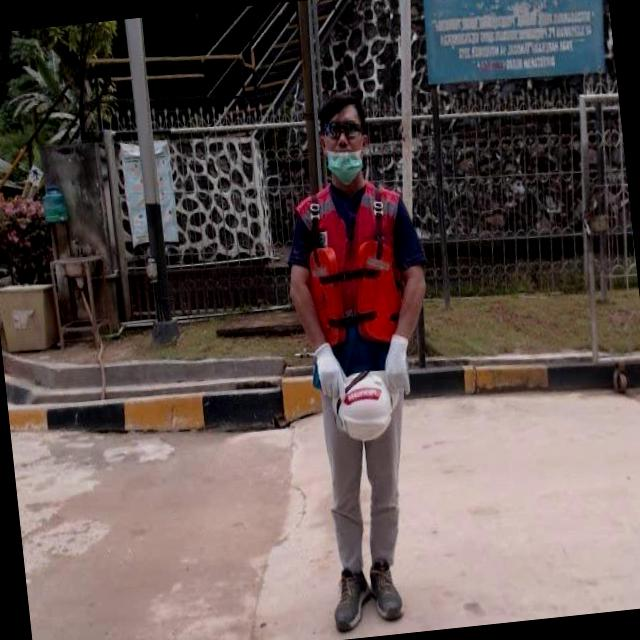vest: (292, 175, 422, 386)
